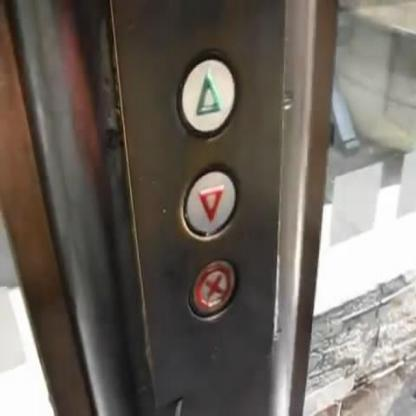down: (180, 162, 242, 241)
stop: (187, 258, 239, 320)
up: (176, 47, 238, 138)
